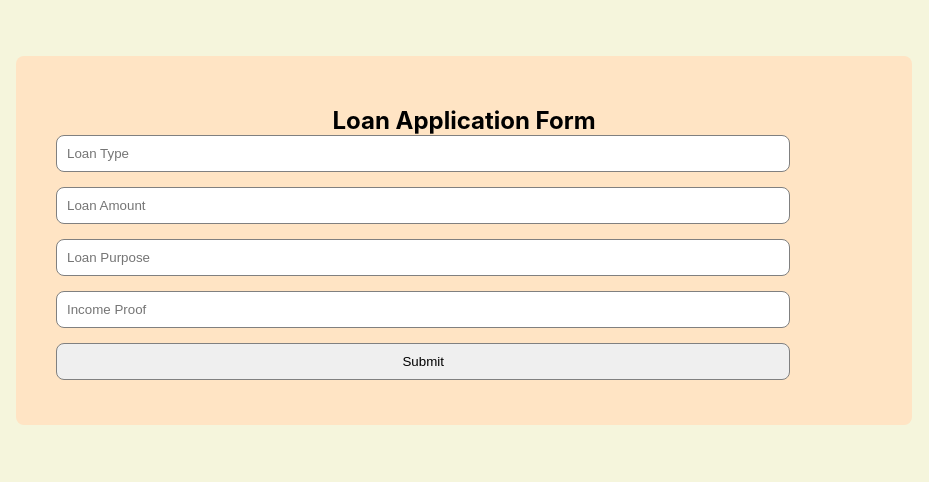
Test: LoanApplicationForm Component › frontend_loanapplicationform_student_component_displays_required_validation_messages
The image size is (929, 482).
// Fire submit event to trigger validation
Click the button "Submit": (423, 361) [56,342,790,380]
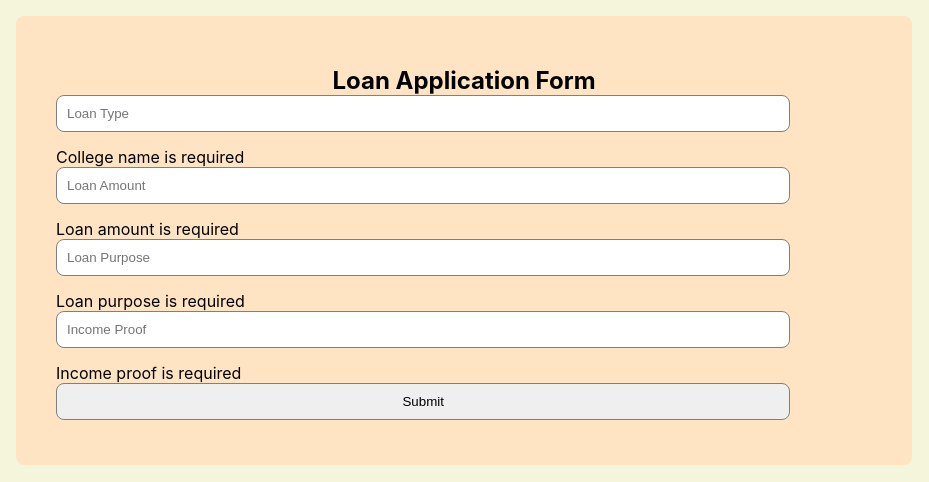
Check: the text "Loan amount is required" is shown, box [56,218,239,238]
Check: the text "Loan purpose is required" is shown, box [56,290,245,310]
Check: the text "Income proof is required" is shown, box [56,362,241,382]
